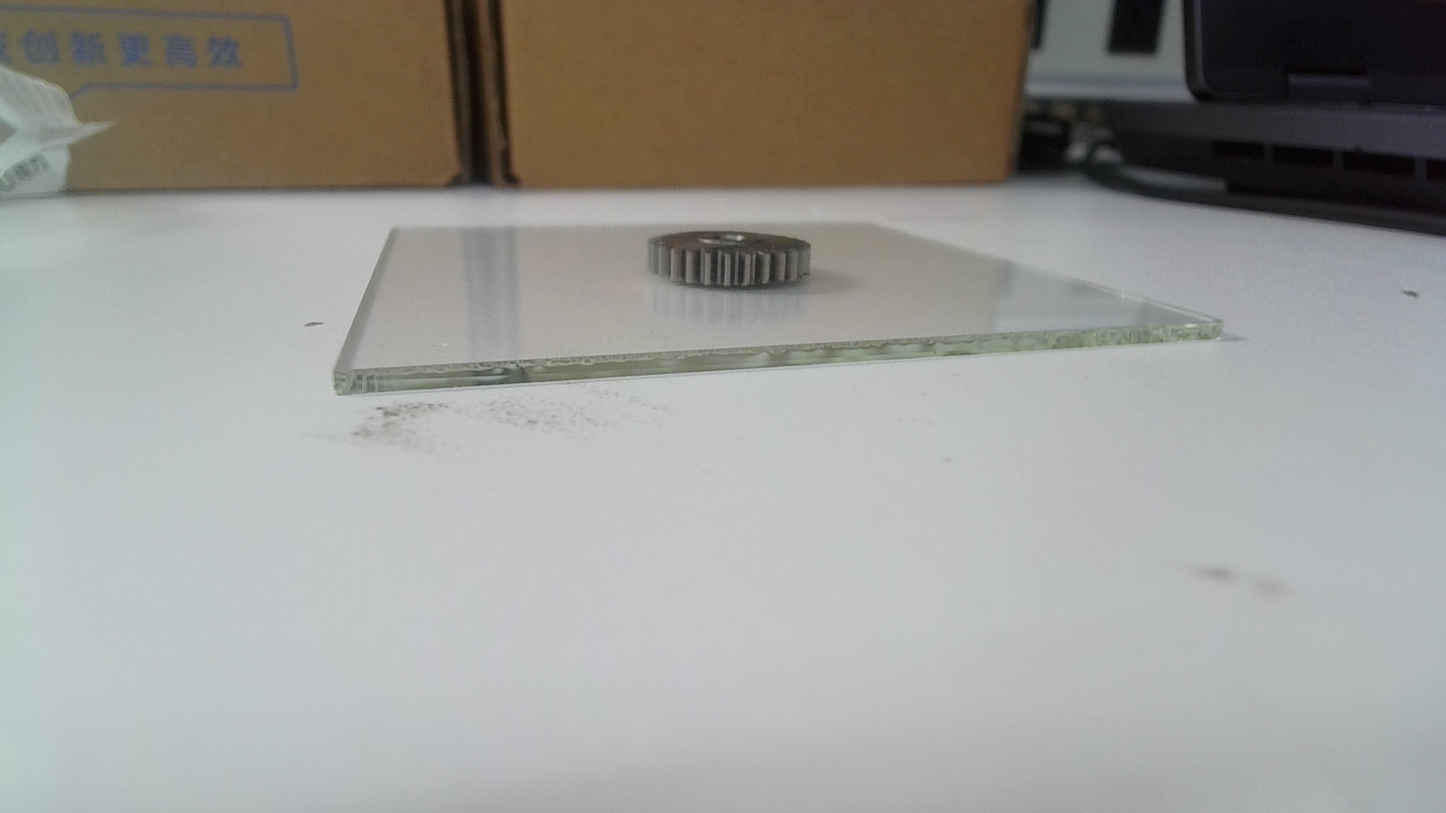gear: (643, 229, 815, 294)
